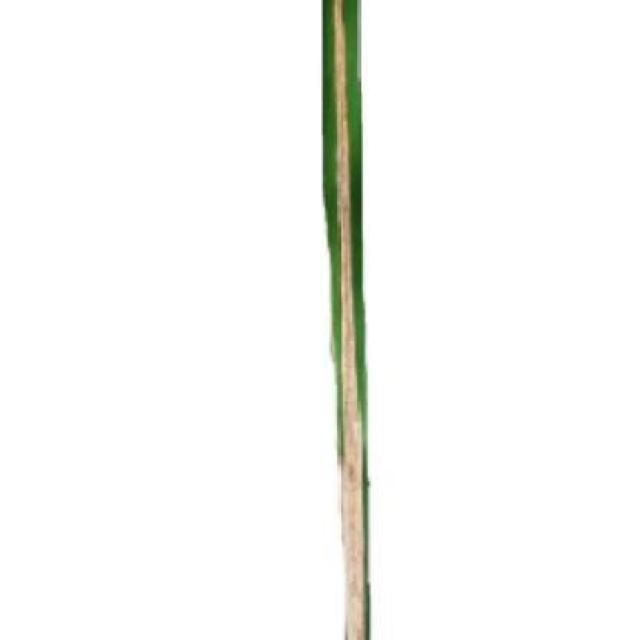Brown_Spot: (315, 0, 382, 640)
